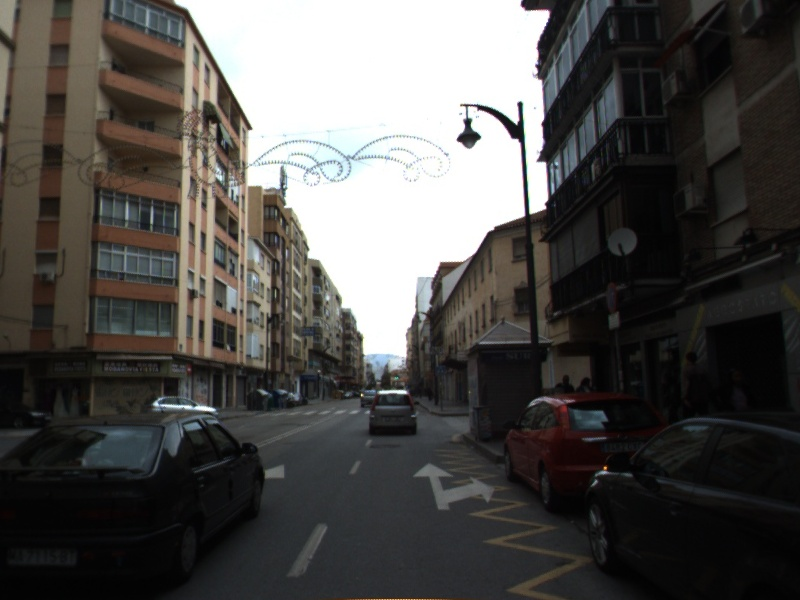STRAIGHT_RIGHT: (410, 461, 498, 512)
